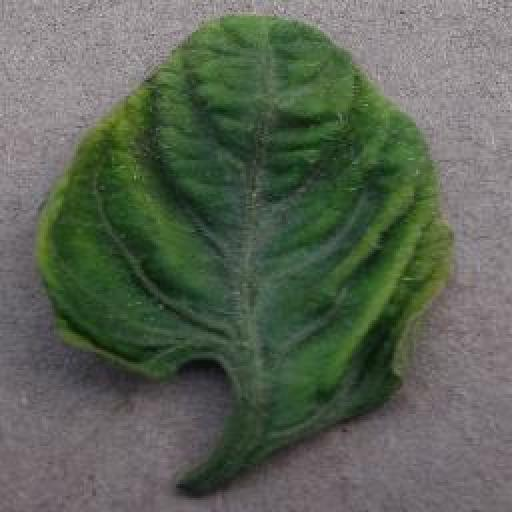disease_tomato: (31, 7, 463, 448)
